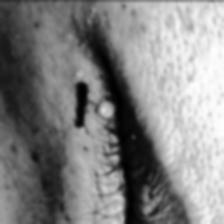Toxin: (96, 97, 114, 122)
